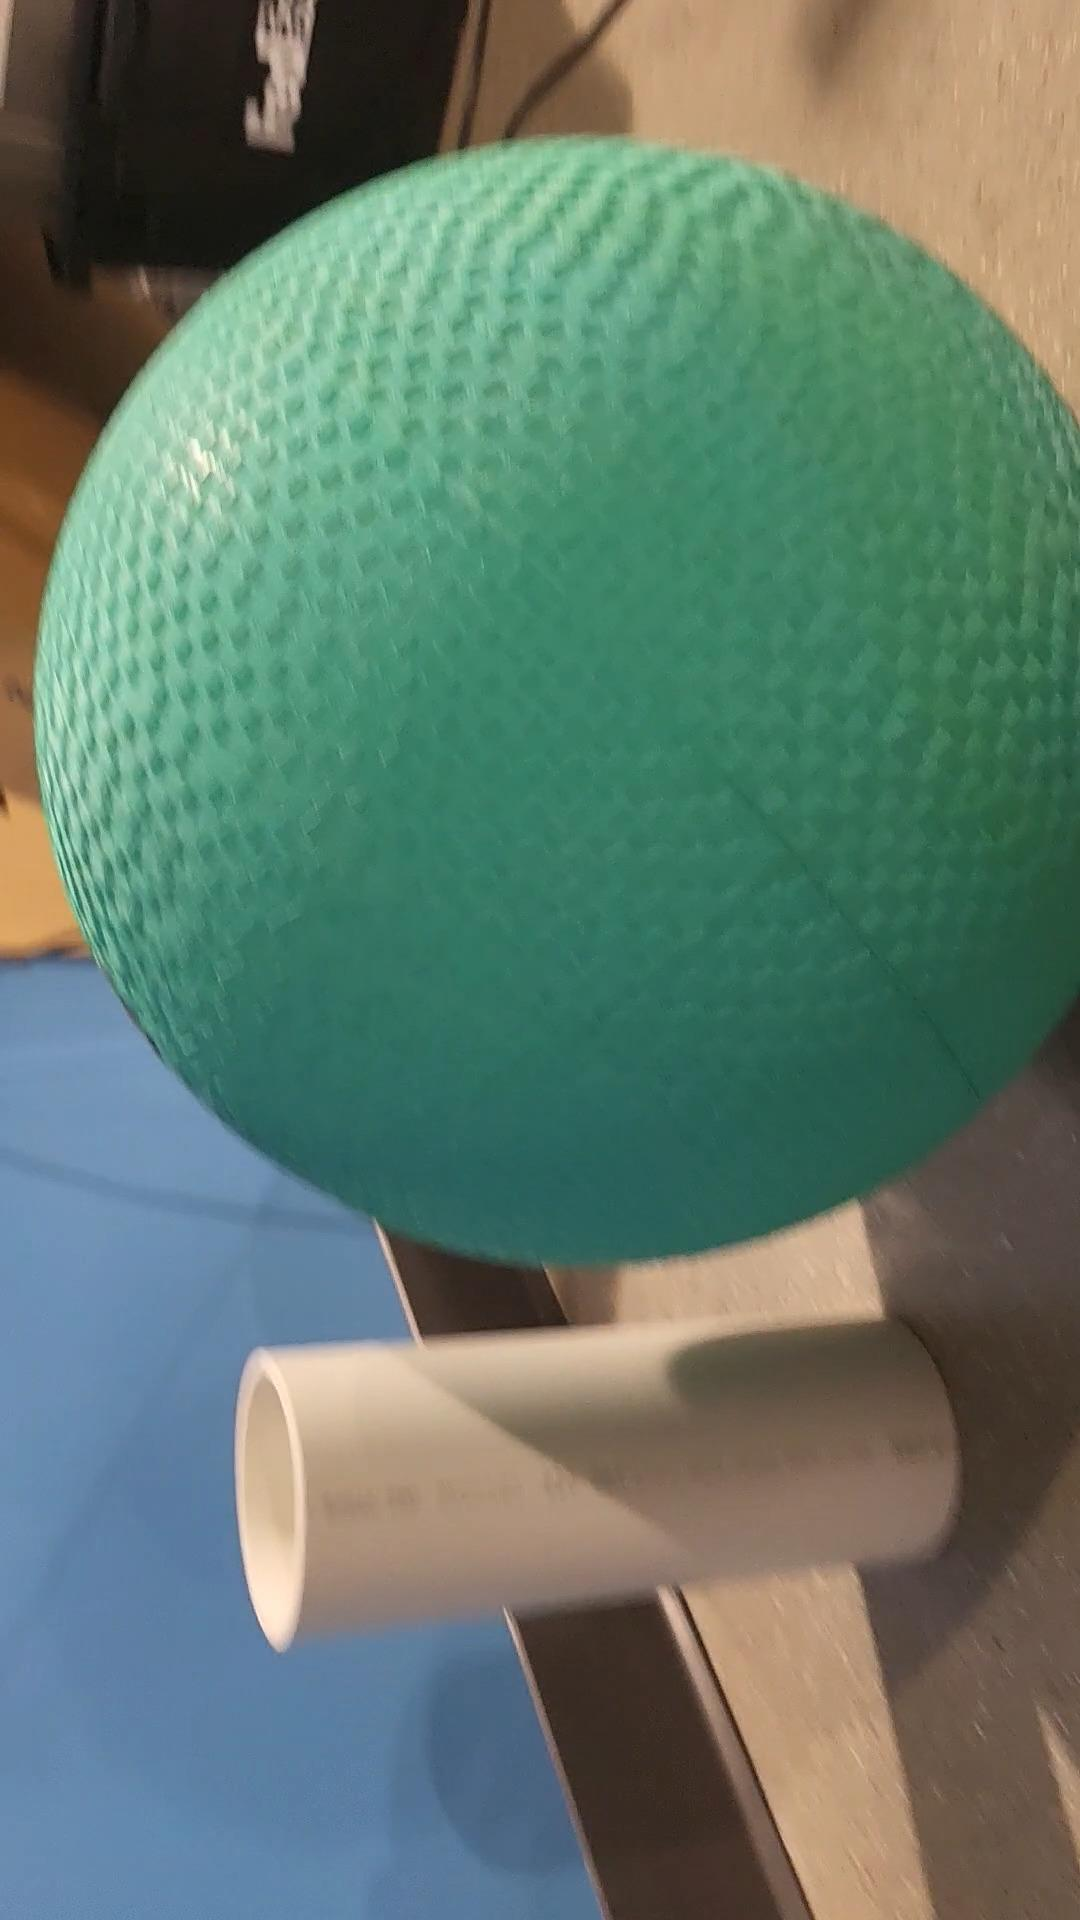algae: (40, 111, 1080, 1270)
coral: (233, 1295, 971, 1663)
